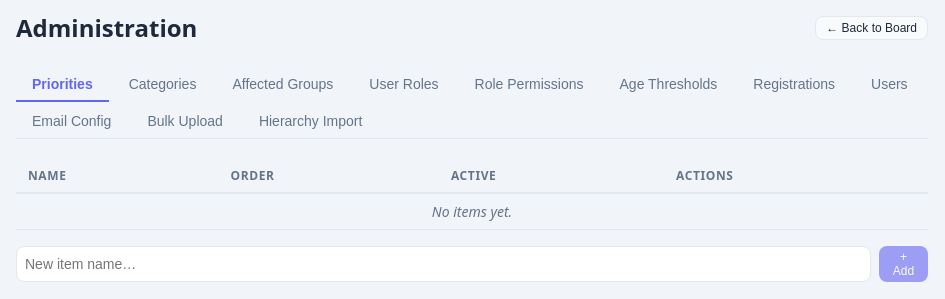
AdminPanel › switches to Bulk Upload tab and shows upload UI
This screenshot has width=945, height=299.
Click the button "Bulk Upload" at coordinates (185, 122), box [131,105,239,139]
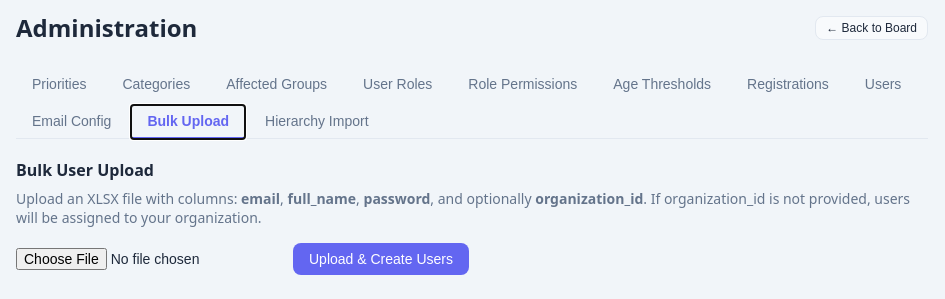
Expected: the heading "Bulk User Upload" is shown, [16,159,154,181]
